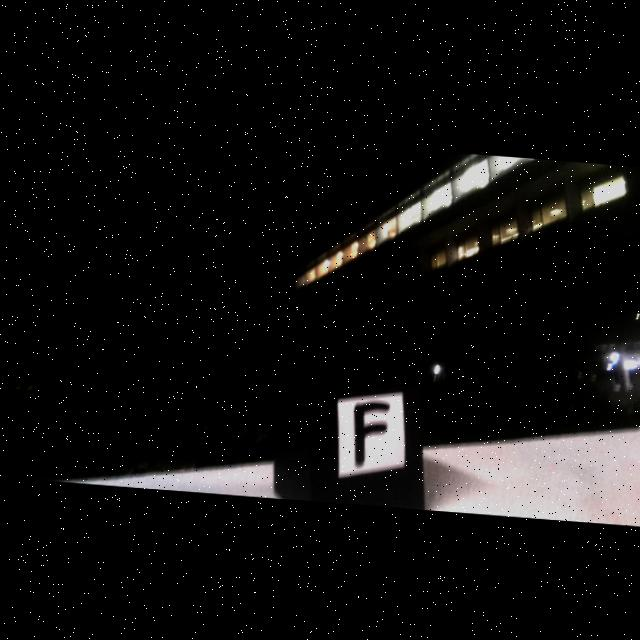F: (352, 402, 387, 462)
